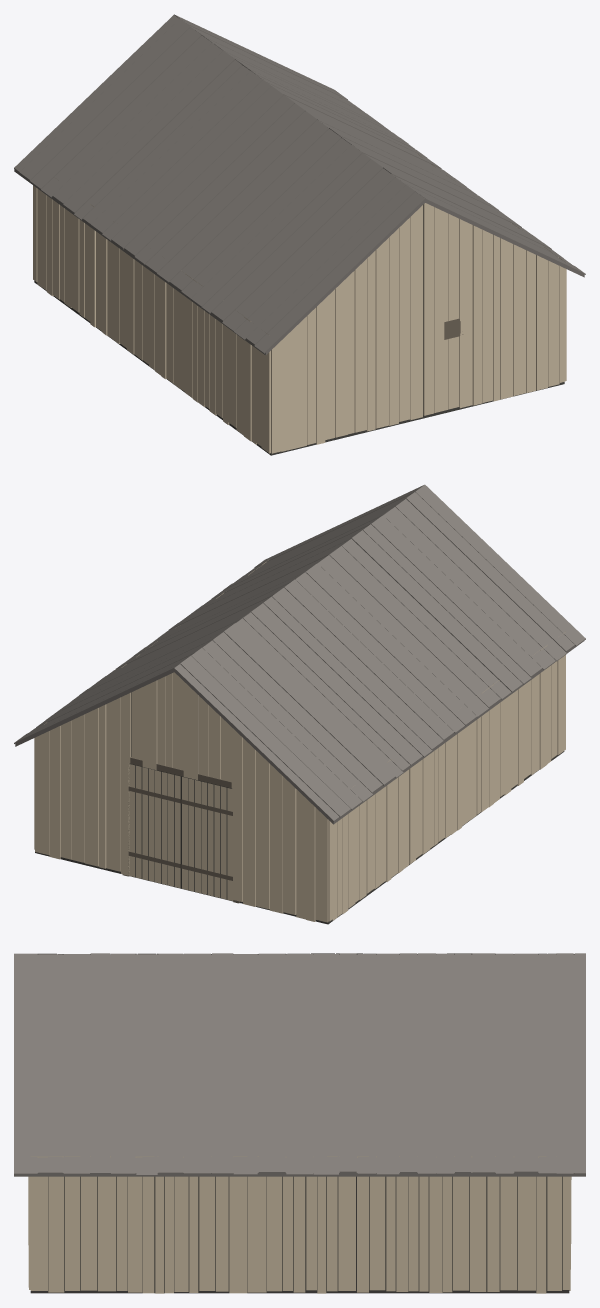
File: recon_1835_south_f1_038__inferred_1835.glb
3 views of the same model, one above another, from view 1: azimuth 30°, elevation 25°; view 2: azimuth 150°, elevation 25°; view 3: azimuth 270°, elevation 25° (orthographic). The views are drawn at different scales.
Parts seen in each view (by area): view 1: recon_1835_south_f1_038__inferred_1835; view 2: recon_1835_south_f1_038__inferred_1835; view 3: recon_1835_south_f1_038__inferred_1835.
Part boxes in pixels (left/top/right/bottom): recon_1835_south_f1_038__inferred_1835: left=14, top=14, right=585, bottom=455; recon_1835_south_f1_038__inferred_1835: left=14, top=484, right=585, bottom=924; recon_1835_south_f1_038__inferred_1835: left=14, top=953, right=585, bottom=1293.
Bounding box in the file's own units: 8.93 × 6 × 12.04.
